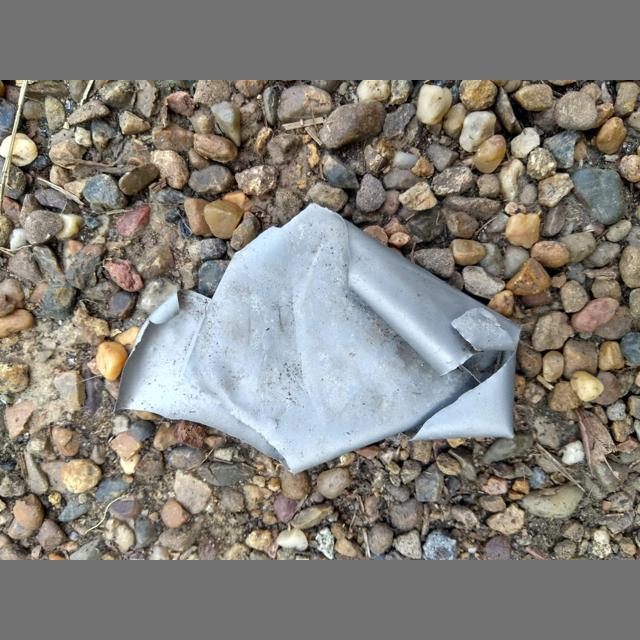litter: (114, 203, 522, 474)
